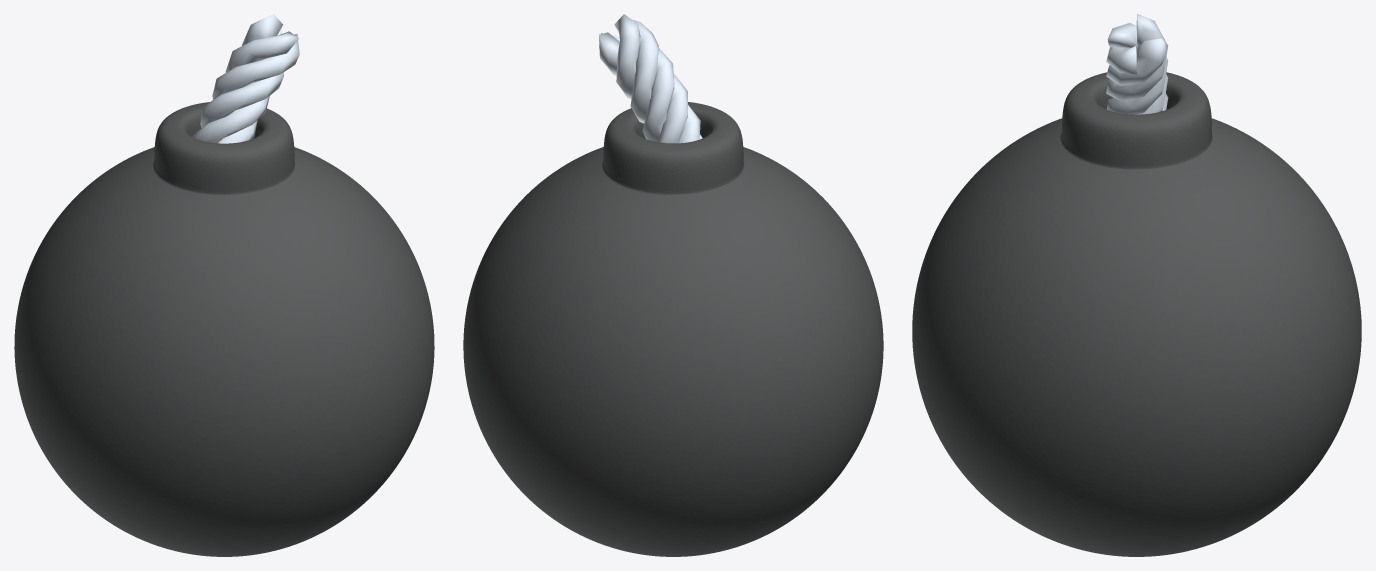
Rendered from Bomb.fbx.
The picture shows the model from 3 angles, left to right: view 1: azimuth 30°, elevation 25°; view 2: azimuth 150°, elevation 25°; view 3: azimuth 270°, elevation 25°; orthographic projection. The views are drawn at different scales.
Parts seen in each view (by area): view 1: Bomb, Wick; view 2: Bomb, Wick; view 3: Bomb, Wick.
Boxes of the visible parts, box(x1,y1,x2,y2) form: Bomb: box(14, 102, 434, 556); Wick: box(191, 14, 299, 143); Bomb: box(463, 102, 883, 556); Wick: box(599, 14, 702, 143); Bomb: box(912, 72, 1361, 556); Wick: box(1106, 14, 1168, 114).
Bounding box in the file's own units: 199 × 267 × 199.
